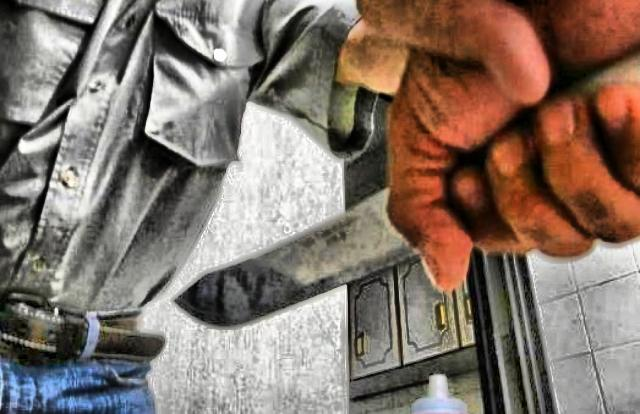knife: (156, 120, 540, 338)
